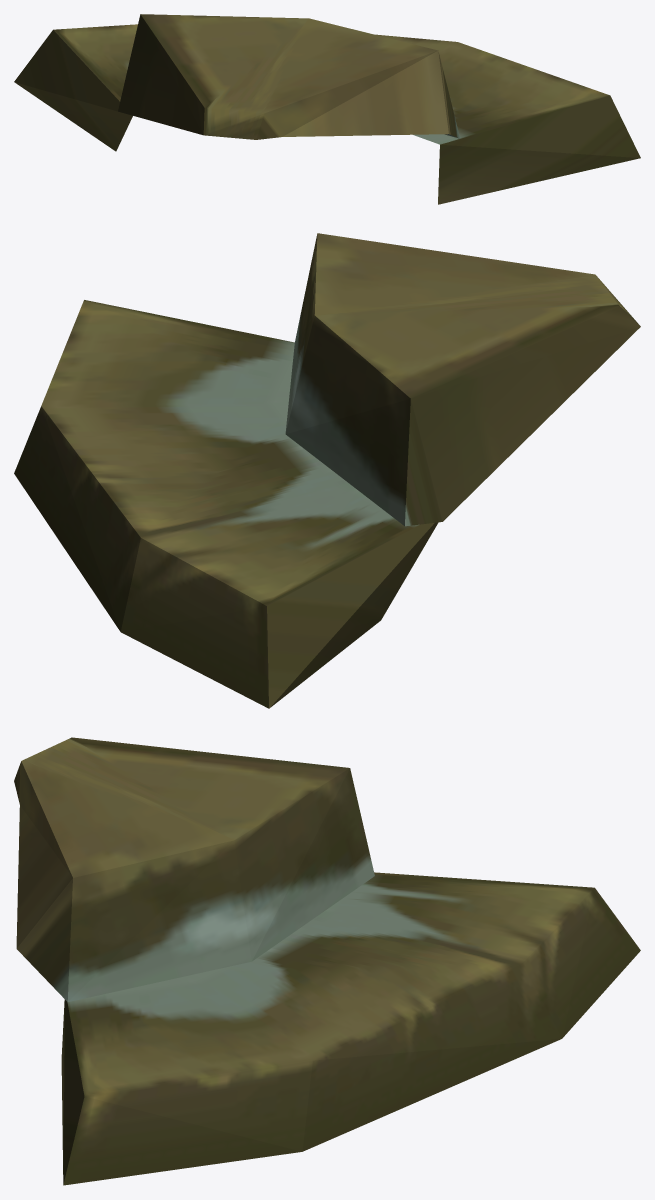
The model's file is tundra_negdias_convex_01_noshadow.fbx.
3 renders of one model, top to bottom at view 1: azimuth 30°, elevation 25°; view 2: azimuth 150°, elevation 25°; view 3: azimuth 270°, elevation 25°, orthographic. The views are drawn at different scales.
Parts seen in each view (by area): view 1: obj0.153; view 2: obj0.153; view 3: obj0.153.
Part boxes in pixels (bbox=[...]): obj0.153: bbox=[14, 14, 640, 204]; obj0.153: bbox=[14, 233, 640, 708]; obj0.153: bbox=[14, 737, 640, 1185].
Bounding box in the file's own units: 2.67 × 0.8989 × 2.67.
